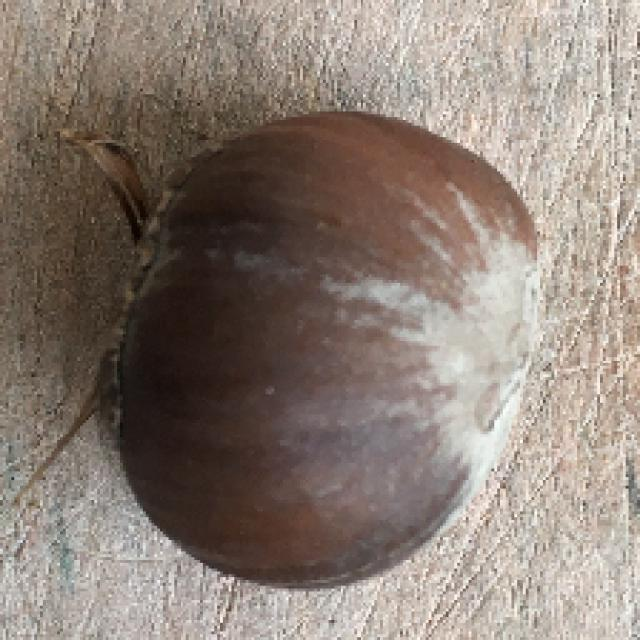damagedHazelnut: (106, 106, 554, 591)
